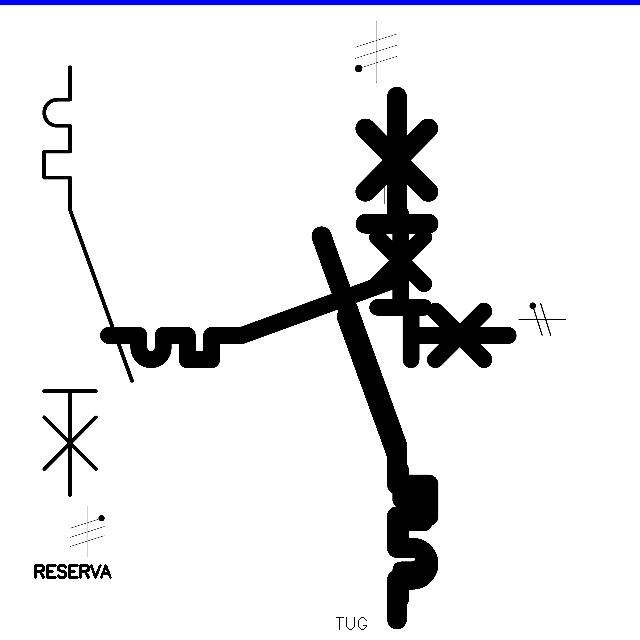interruptor_termomagnetico: (308, 83, 442, 633), (33, 56, 143, 506), (98, 267, 518, 370), (335, 203, 434, 608)
